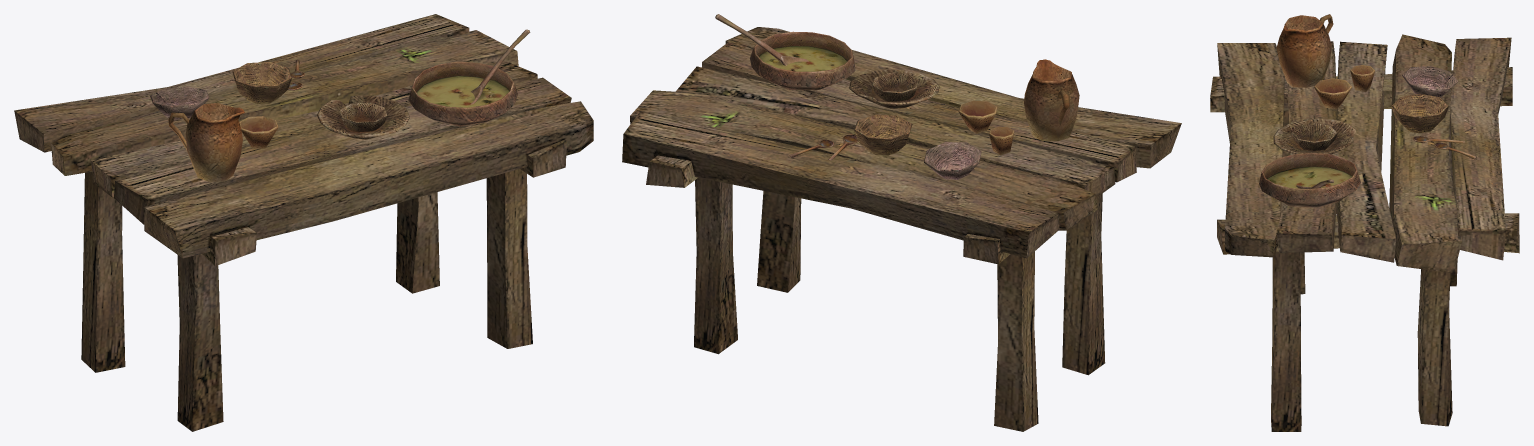
File: Table2.fbx
3 views of the same model, side by side, from view 1: azimuth 30°, elevation 25°; view 2: azimuth 150°, elevation 25°; view 3: azimuth 270°, elevation 25° (orthographic). The views are drawn at different scales.
Parts seen in each view (by area): view 1: LV_Common_Object_A_AssemblyWoodTable02_SM_CNH; view 2: LV_Common_Object_A_AssemblyWoodTable02_SM_CNH; view 3: LV_Common_Object_A_AssemblyWoodTable02_SM_CNH.
Part boxes in pixels (bbox=[...]): LV_Common_Object_A_AssemblyWoodTable02_SM_CNH: bbox=[14, 14, 593, 431]; LV_Common_Object_A_AssemblyWoodTable02_SM_CNH: bbox=[622, 14, 1181, 431]; LV_Common_Object_A_AssemblyWoodTable02_SM_CNH: bbox=[1210, 14, 1519, 431].
Bounding box in the file's own units: 0.4174 × 0.2662 × 0.2653.
